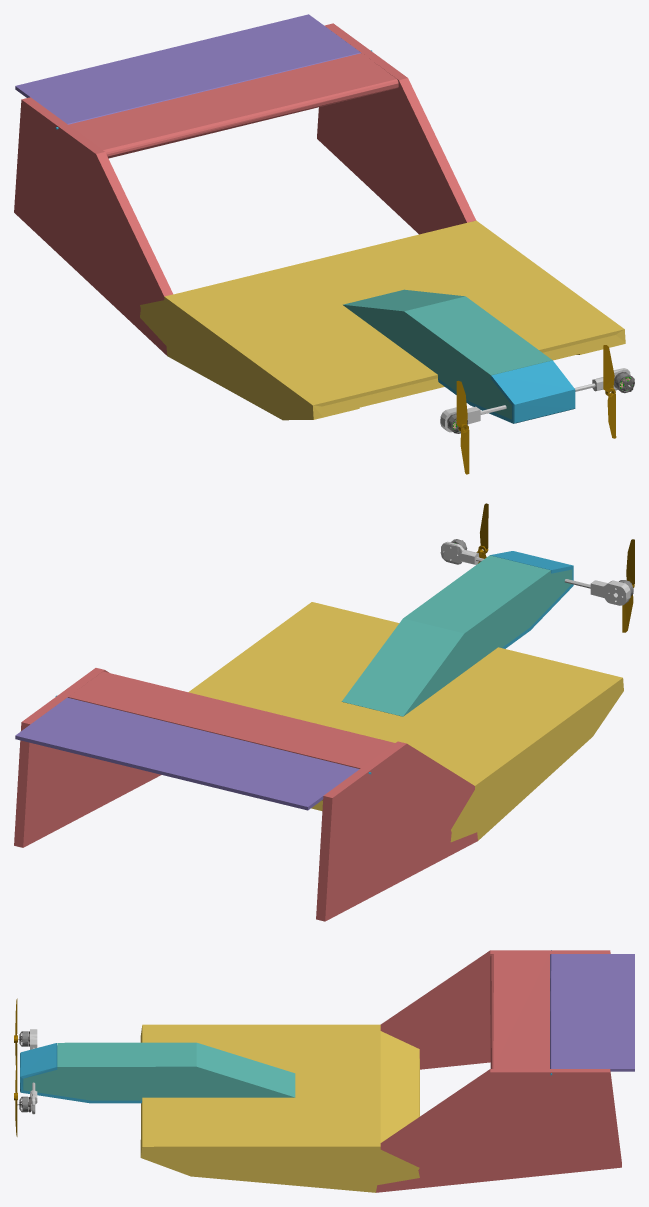
File: ekranoplan.glb
3 views of the same model, one above another, from view 1: azimuth 30°, elevation 25°; view 2: azimuth 150°, elevation 25°; view 3: azimuth 270°, elevation 25° (orthographic). The views are drawn at different scales.
Parts seen in each view (by area): view 1: Node1; view 2: Node1; view 3: Node1.
Part boxes in pixels (left/top/right/bottom): Node1: left=14, top=14, right=634, bottom=474; Node1: left=14, top=503, right=634, bottom=921; Node1: left=14, top=950, right=634, bottom=1192.
Bounding box in the file's own units: 437 × 198 × 927.
Materials: 1 (1 with a texture image).
